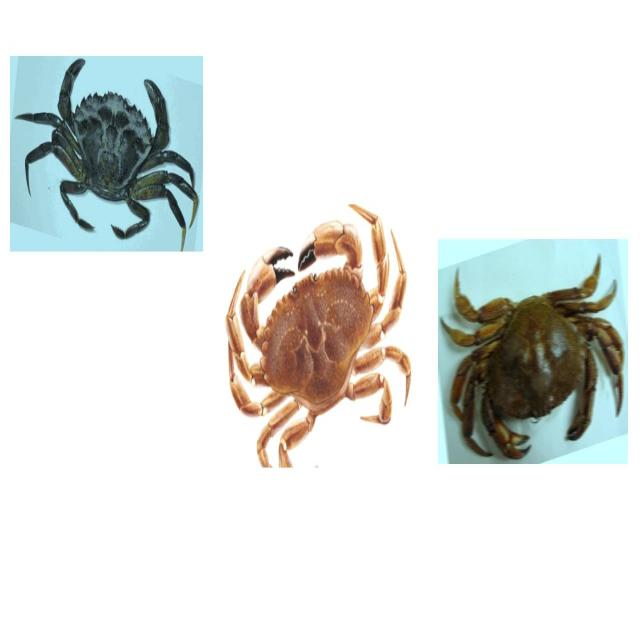egc: (9, 57, 200, 255)
jonah_crab: (230, 200, 410, 453)
rock_crab: (442, 253, 626, 456)
